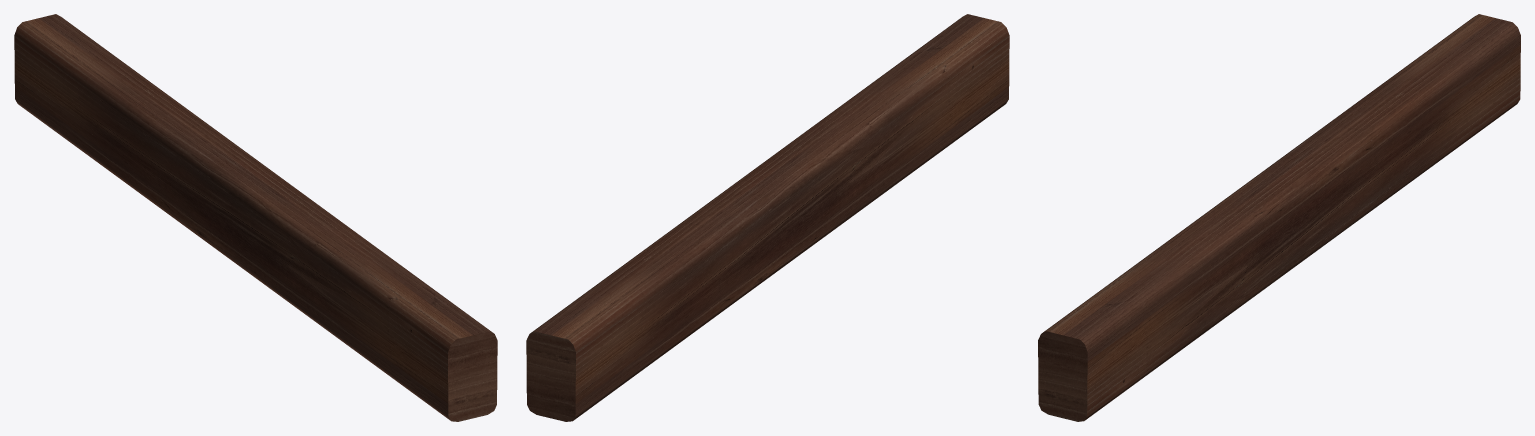
File: SM_R_Dancheong_37.fbx
3 renders of one model, left to right at view 1: azimuth 30°, elevation 25°; view 2: azimuth 150°, elevation 25°; view 3: azimuth 330°, elevation 25°, orthographic.
Parts seen in each view (by area): view 1: SM_R_Dancheong_37; view 2: SM_R_Dancheong_37; view 3: SM_R_Dancheong_37.
Boxes of the visible parts, x1,y1,x2,y2 form: SM_R_Dancheong_37: (14, 14, 497, 421); SM_R_Dancheong_37: (526, 14, 1009, 421); SM_R_Dancheong_37: (1038, 14, 1520, 421).
Size of the model in its own units: 18.95 by 286 by 30.25.
1 material, 1 textured.
